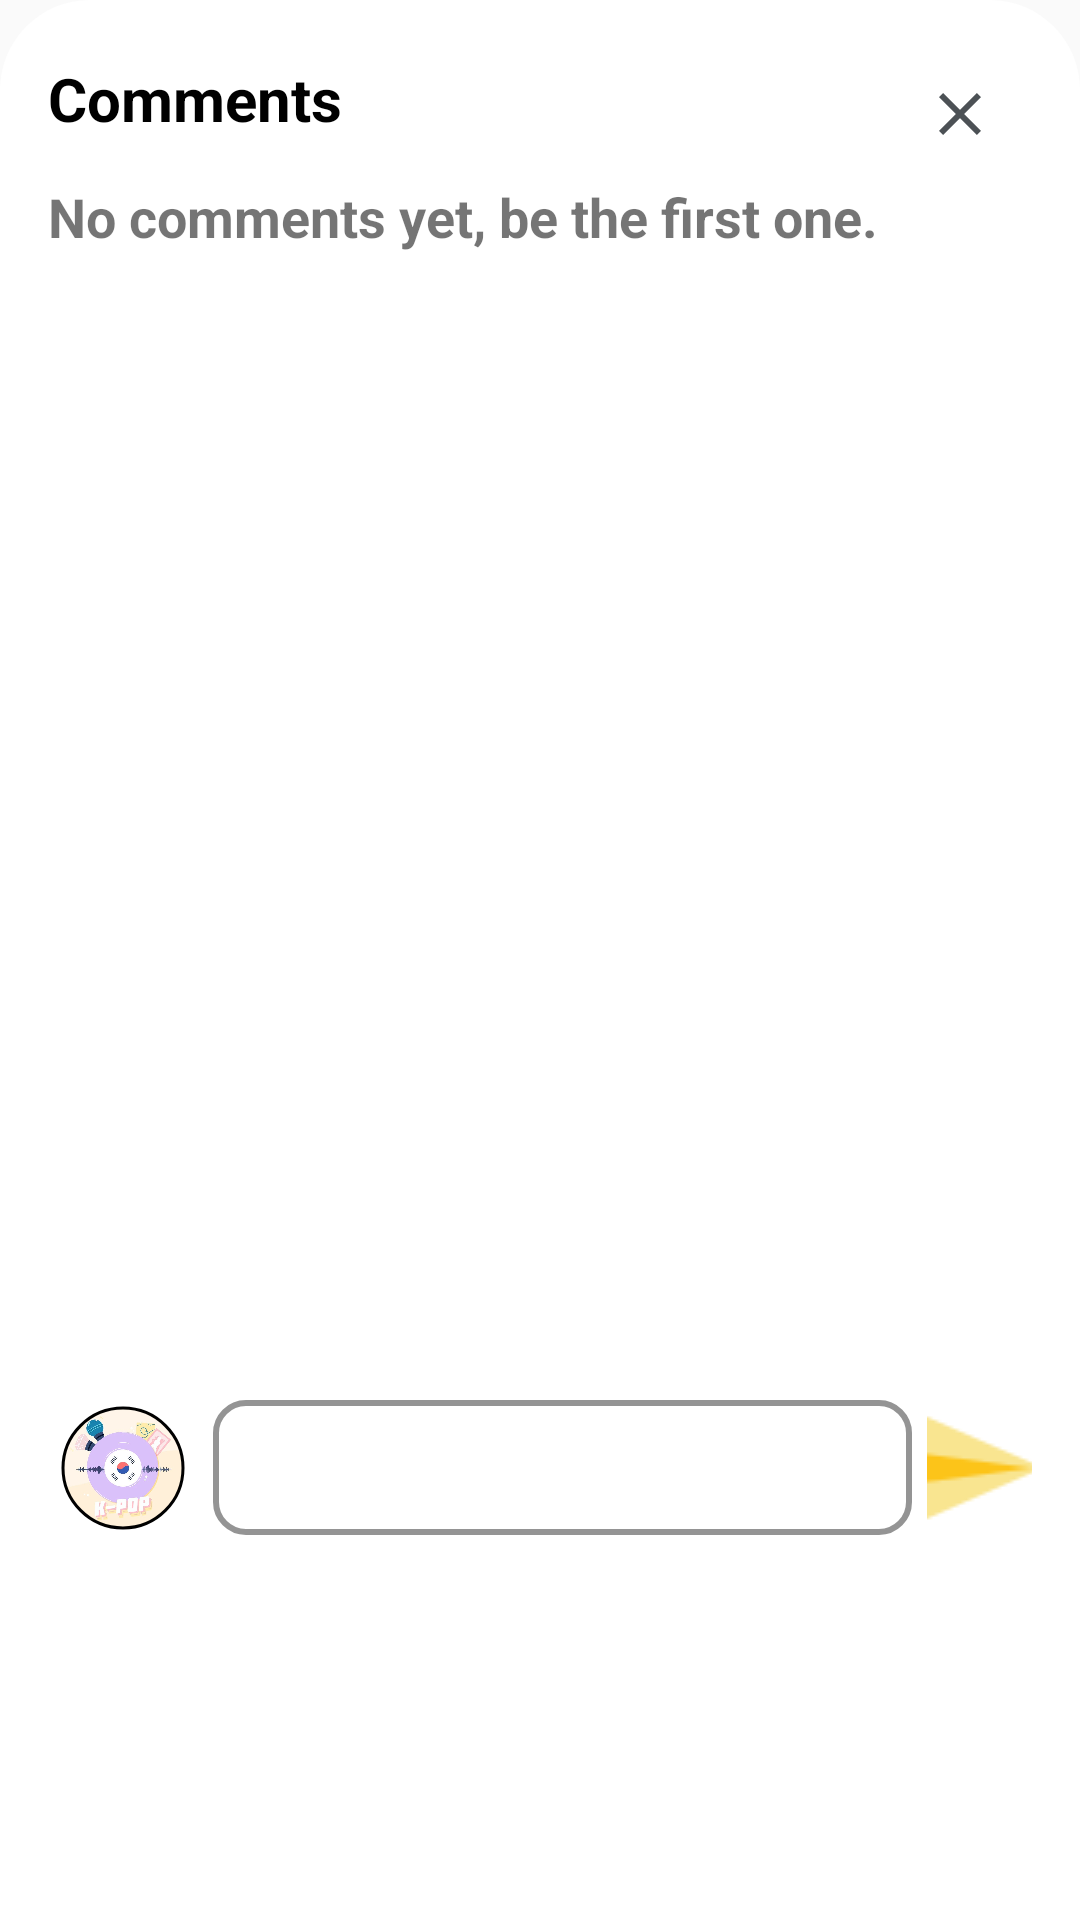

Named icons in this screenshot (1080px×1920px) and their centers, point (x, y):
close: point (960, 114)
send: point (979, 1468)
